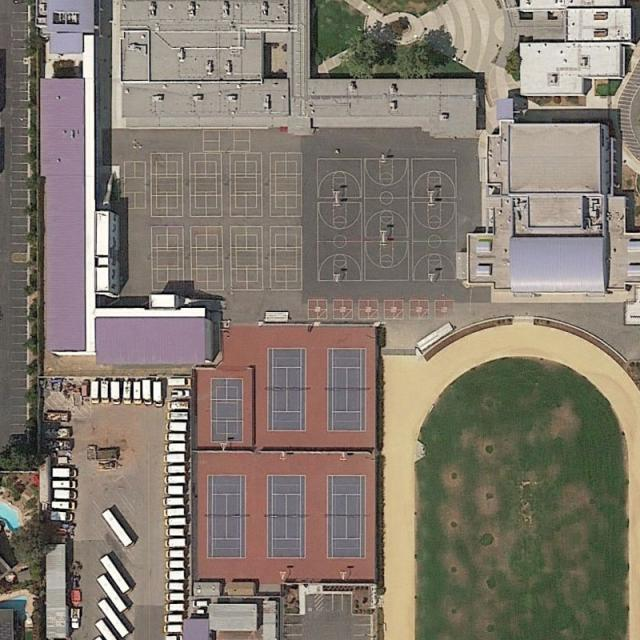vehicle: (97, 598, 132, 638), (102, 508, 134, 546), (100, 554, 130, 593), (97, 573, 126, 613), (94, 618, 119, 640), (142, 380, 151, 405), (153, 382, 162, 405), (49, 511, 72, 520), (110, 382, 120, 402), (52, 468, 77, 476), (55, 489, 76, 498), (166, 476, 186, 485), (167, 378, 191, 385), (90, 381, 98, 401), (99, 381, 107, 401), (132, 383, 140, 403), (166, 559, 183, 568), (164, 454, 185, 461), (53, 502, 74, 509), (192, 600, 210, 608), (124, 382, 131, 402), (168, 401, 187, 408), (167, 423, 186, 430), (166, 539, 185, 546), (166, 486, 182, 494), (171, 390, 188, 397), (165, 615, 182, 622), (51, 481, 74, 486), (169, 413, 188, 419), (166, 529, 185, 535), (166, 572, 185, 578), (165, 583, 184, 589), (166, 466, 182, 473), (166, 592, 182, 599), (166, 445, 184, 451), (165, 498, 183, 504), (166, 604, 183, 610), (164, 510, 184, 515), (166, 519, 185, 524), (166, 434, 186, 438), (166, 552, 186, 556), (164, 626, 183, 630), (166, 635, 182, 639)
